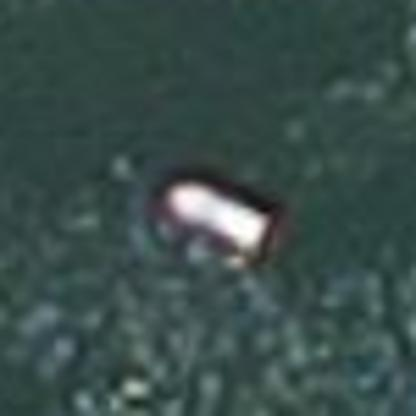ship: (143, 162, 293, 278)
